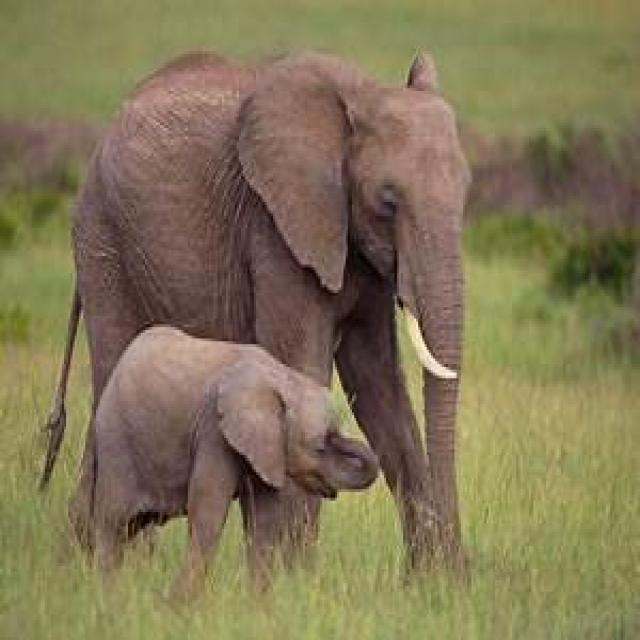elephant: (73, 51, 474, 569), (79, 327, 380, 603)
